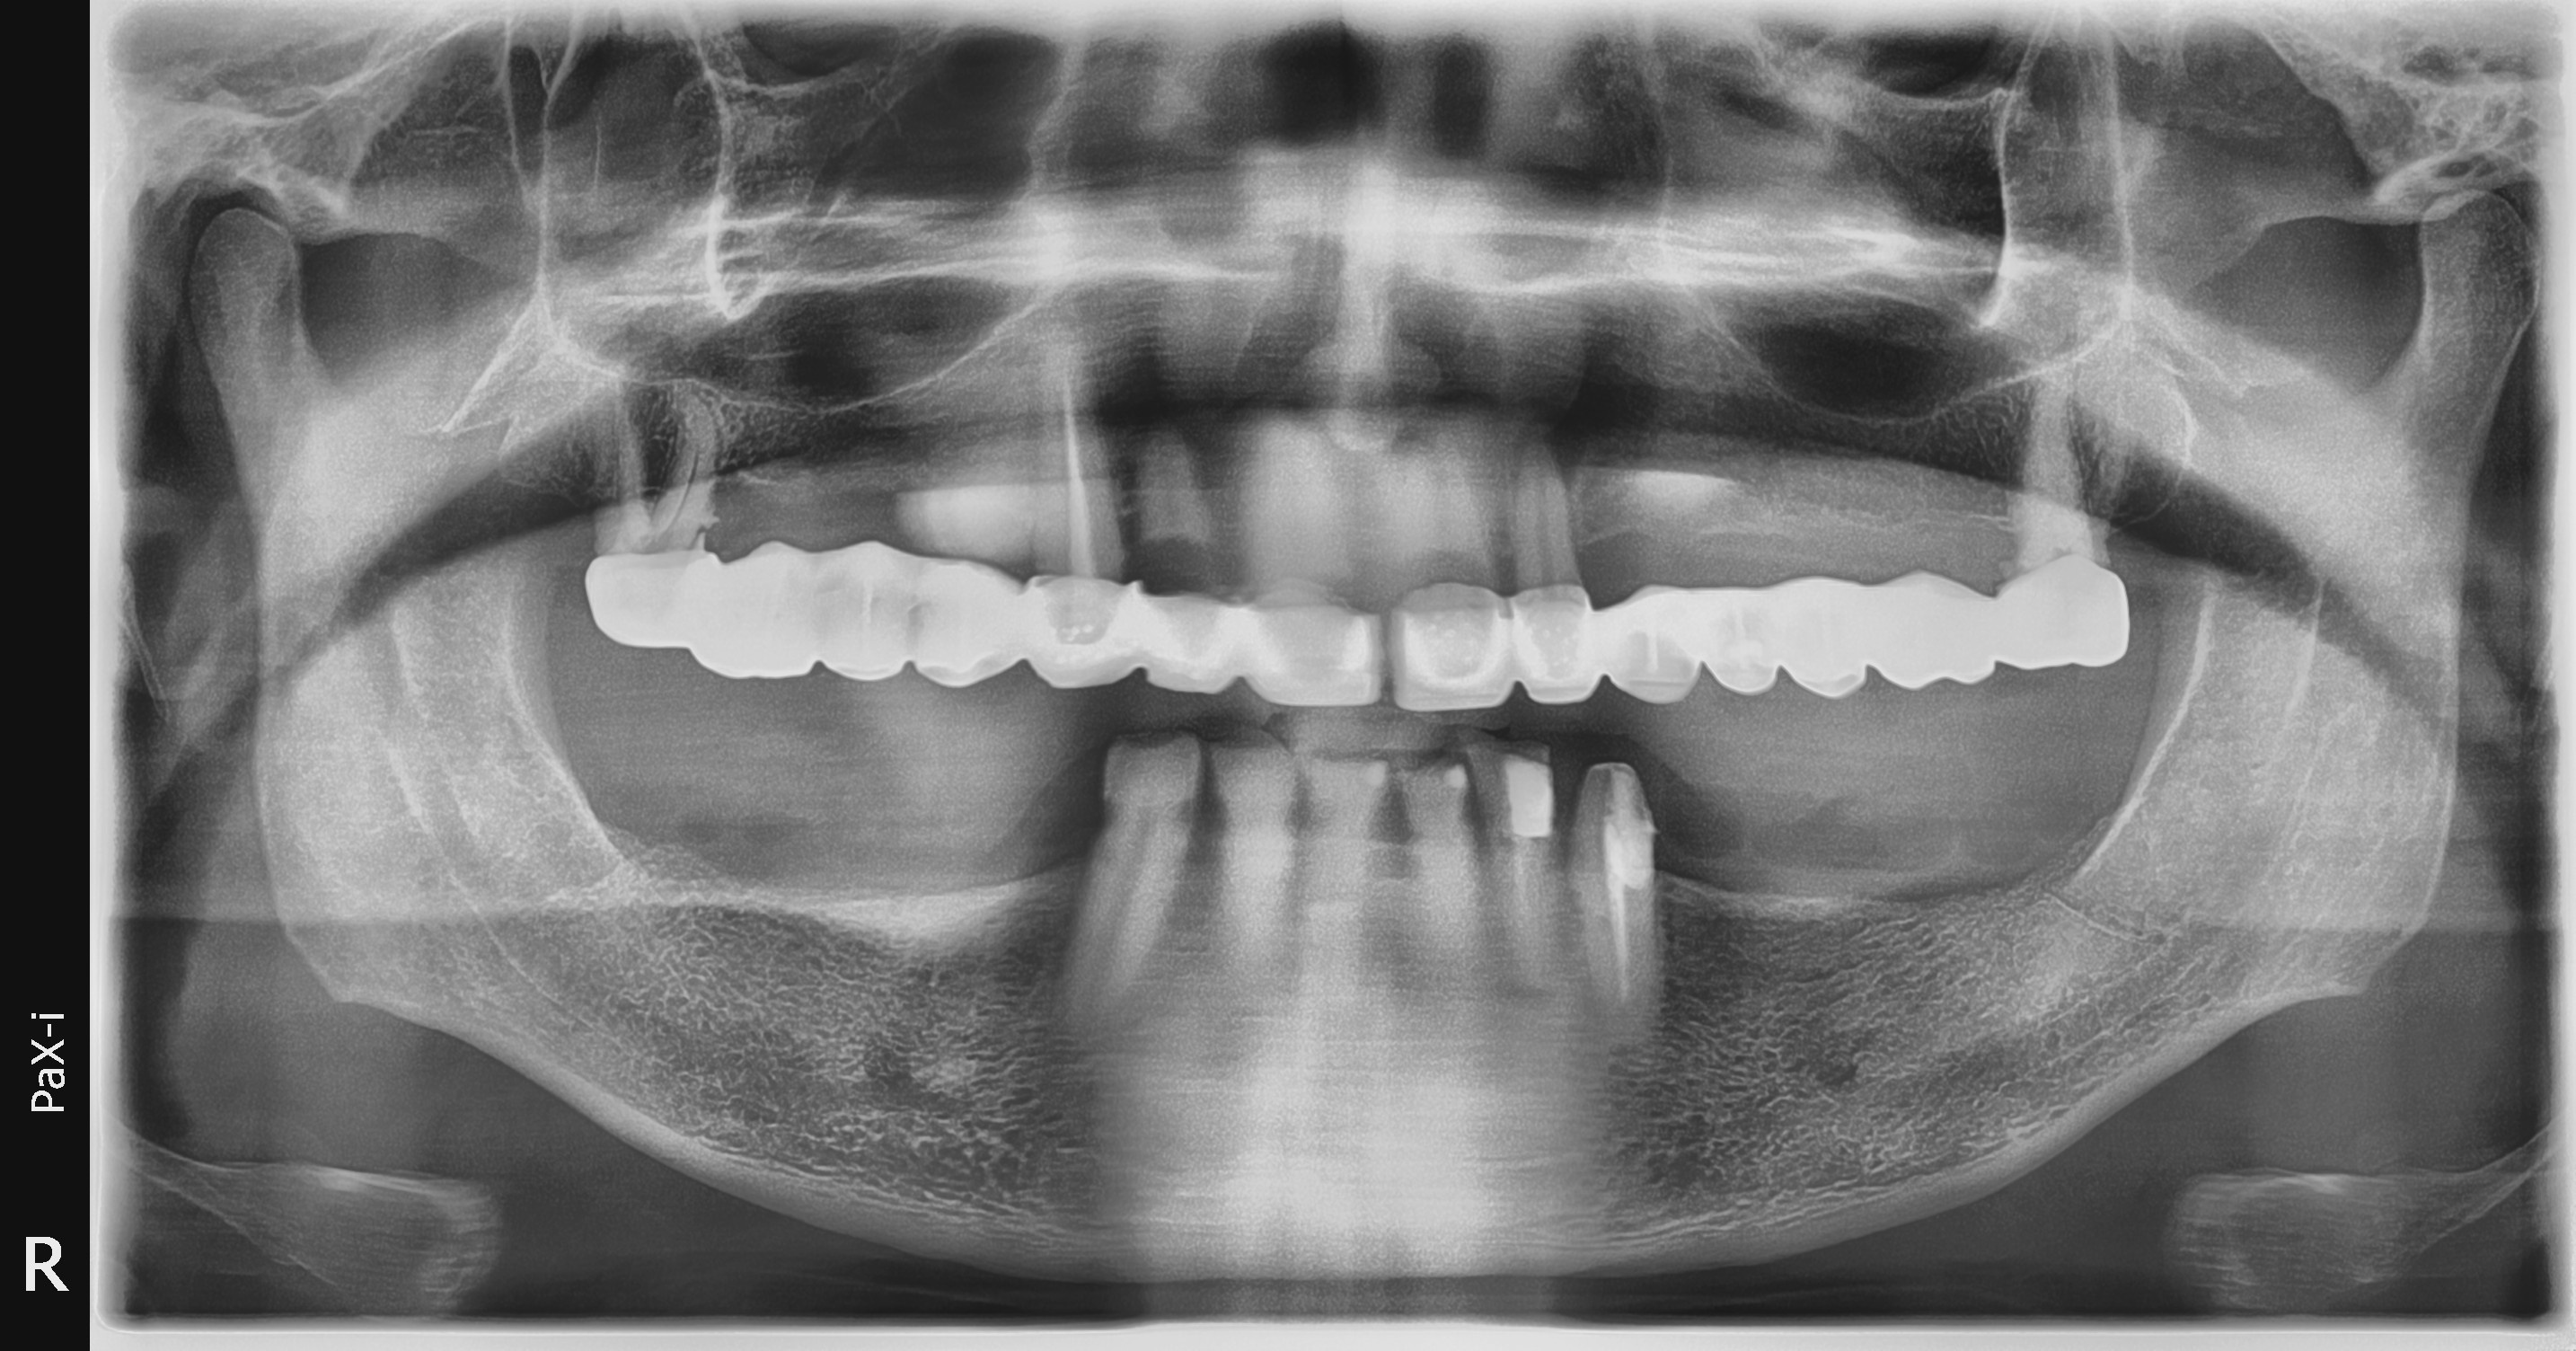CAR: (1101, 523, 1252, 613), (1371, 535, 1520, 615)
END: (1031, 339, 1106, 576)
OBT: (1579, 743, 1693, 889), (1482, 727, 1581, 854), (1417, 748, 1489, 799)
PRR: (528, 515, 2153, 741)
